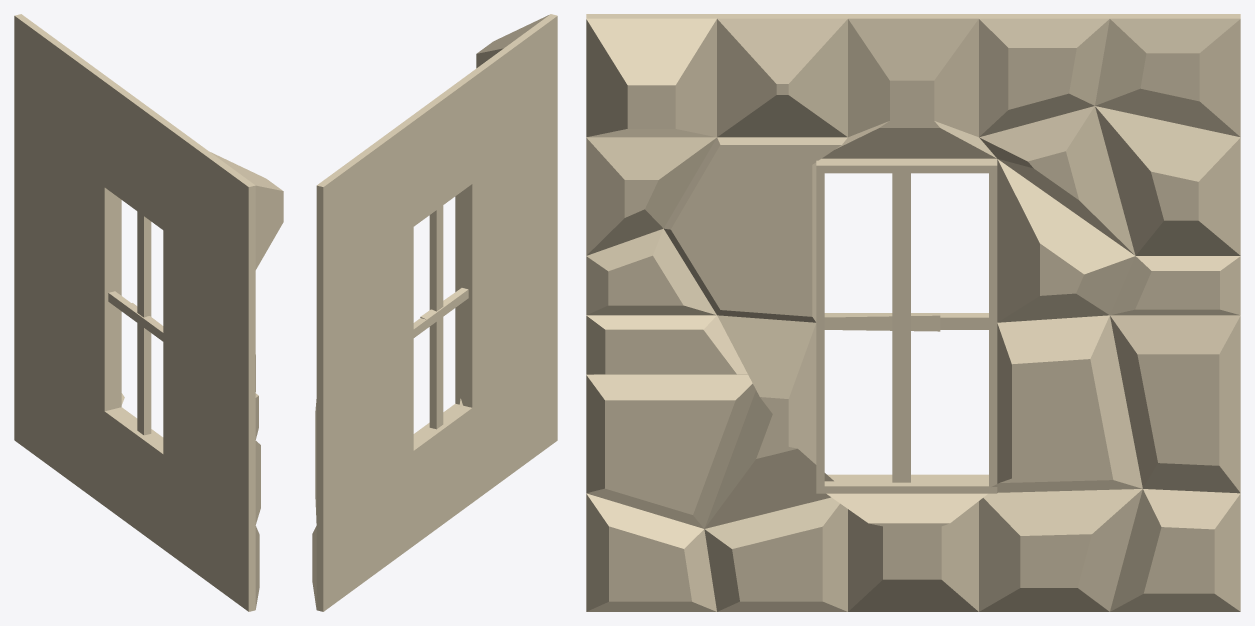
The model's file is wall_window_rocky.glb.
3 renders of one model, left to right at view 1: azimuth 30°, elevation 25°; view 2: azimuth 150°, elevation 25°; view 3: azimuth 270°, elevation 25°, orthographic. The views are drawn at different scales.
Parts seen in each view (by area): view 1: Cube; view 2: Cube; view 3: Cube.
Boxes of the visible parts, x1,y1,x2,y2 form: Cube: [14, 14, 283, 611]; Cube: [312, 14, 557, 611]; Cube: [586, 14, 1240, 611].
Size of the model in its own units: 0.8835 by 7.23 by 7.23.
